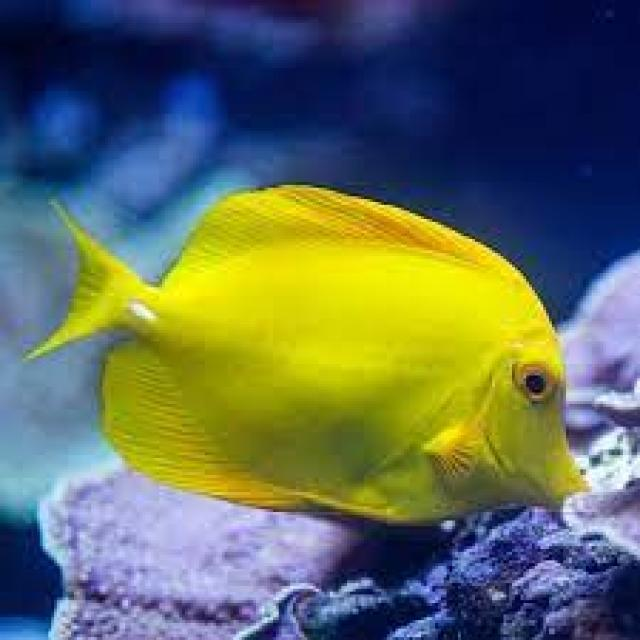TangFish: (33, 169, 587, 524)
